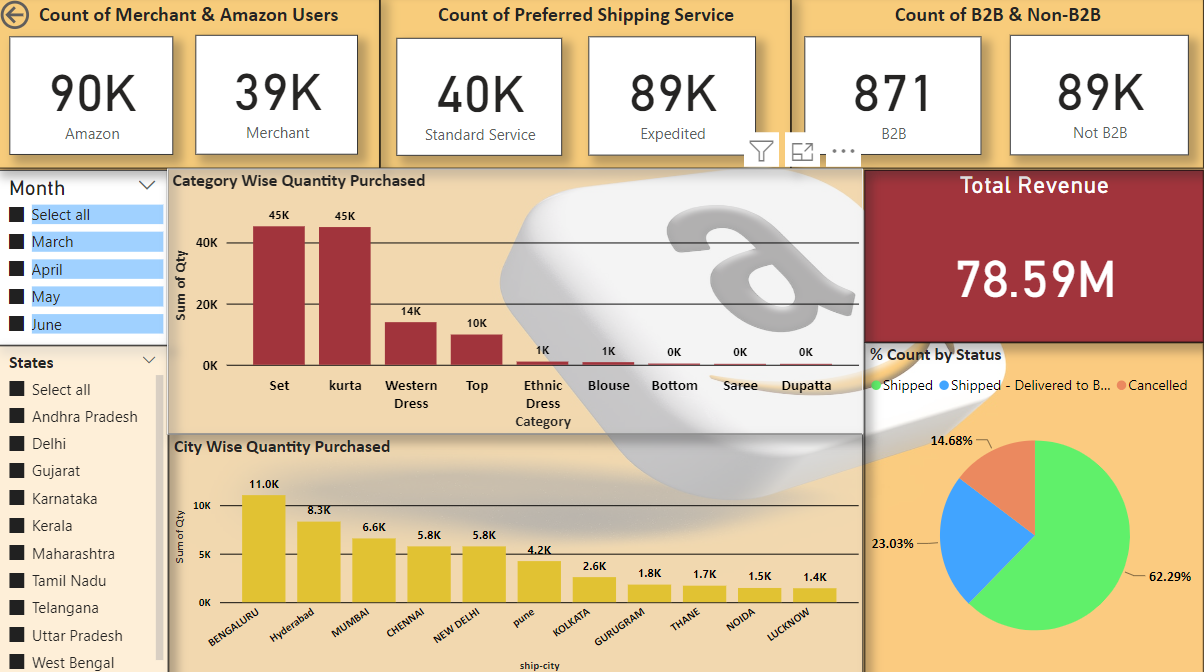

This screenshot's page, from the dashboard's own definition file:
{"tool":"powerbi","page":{"name":"Page 1","canvas":[1280,720],"ordinal":0},"visuals":[{"type":"textbox","box":[0,0,406.9,182.8],"z":0,"group":"g1"},{"type":"textbox","box":[406.9,0,435.5,182.8],"z":0,"group":"g2"},{"type":"textbox","box":[842.4,0,437.1,182.8],"z":0,"group":"g3"},{"type":"slicer","fields":{"Values":["Amazon.Month"]},"box":[0,184.4,182.8,186],"z":0},{"type":"card","title":"Total Revenue","fields":{"Values":["Sum(Amazon.Amount)"]},"box":[920.3,184.4,359.2,182.8],"z":1000},{"type":"clusteredColumnChart","title":"City Wise Quantity Purchased","fields":{"Y":["Sum(Amazon.Qty)"],"Category":["Amazon.ship-city"]},"box":[182.8,464.1,735.9,255.9],"z":2000},{"type":"pieChart","title":"% Count by Status","fields":{"Category":["Amazon.Status"],"Y":["CountNonNull(Amazon.Status)"]},"box":[920.3,367.2,359.2,352.8],"z":3000},{"type":"slicer","fields":{"Values":["Amazon.ship-state"]},"box":[0,370.3,182.8,349.7],"z":4000},{"type":"group","id":"g1","title":"Group 1","box":[0,0,406.9,182.8],"z":5000},{"type":"group","id":"g2","title":"Group 2","box":[406.9,0,435.5,182.8],"z":6000},{"type":"card","fields":{"Values":["Amazon.Round"]},"box":[13.7,42.7,173.6,125.1],"z":6000,"group":"g1"},{"type":"card","fields":{"Values":["Amazon.Round_B2B_T"]},"box":[857.4,42.9,187.6,125.6],"z":6000,"group":"g3"},{"type":"card","fields":{"Values":["Amazon.Round_standard"]},"box":[424.7,44.5,175.6,124.5],"z":6000,"group":"g2"},{"type":"group","id":"g3","title":"Group 2","box":[842.4,0,437.1,182.8],"z":7000},{"type":"card","fields":{"Values":["Amazon.Round_Merchant"]},"box":[210.6,41.2,172.3,126.6],"z":7000,"group":"g1"},{"type":"card","fields":{"Values":["Amazon.Round_expedited"]},"box":[1075,41.3,189.5,127.2],"z":7000,"group":"g3"},{"type":"card","fields":{"Values":["Amazon.Round_expedited"]},"box":[628.4,42.9,177.3,126.1],"z":7000,"group":"g2"},{"type":"actionButton","box":[0,0,100,40],"z":8000},{"type":"clusteredColumnChart","title":"Category Wise Quantity Purchased","fields":{"Category":["Amazon.Category"],"Y":["Sum(Amazon.Qty)"]},"box":[181.2,182.8,737.5,281.3],"z":9000}]}

Visuals, with their boxes in screenshot pixels (x1, y1, x2, y2):
textbox: {"left": 0, "top": 0, "right": 372, "bottom": 165}
textbox: {"left": 372, "top": 0, "right": 787, "bottom": 165}
textbox: {"left": 787, "top": 0, "right": 1203, "bottom": 165}
slicer - Amazon.Month: {"left": 0, "top": 166, "right": 158, "bottom": 344}
"Total Revenue" card: {"left": 861, "top": 166, "right": 1203, "bottom": 340}
"City Wise Quantity Purchased" clusteredColumnChart: {"left": 158, "top": 433, "right": 860, "bottom": 671}
"% Count by Status" pieChart: {"left": 861, "top": 340, "right": 1203, "bottom": 671}
slicer - Amazon.ship-state: {"left": 0, "top": 343, "right": 158, "bottom": 671}
"Group 1" group: {"left": 0, "top": 0, "right": 372, "bottom": 165}
"Group 2" group: {"left": 372, "top": 0, "right": 787, "bottom": 165}
card - Amazon.Round: {"left": 0, "top": 31, "right": 163, "bottom": 150}
card - Amazon.Round_B2B_T: {"left": 801, "top": 31, "right": 980, "bottom": 151}
card - Amazon.Round_standard: {"left": 389, "top": 33, "right": 556, "bottom": 152}
"Group 2" group: {"left": 787, "top": 0, "right": 1203, "bottom": 165}
card - Amazon.Round_Merchant: {"left": 185, "top": 30, "right": 349, "bottom": 150}
card - Amazon.Round_expedited: {"left": 1009, "top": 30, "right": 1189, "bottom": 151}
card - Amazon.Round_expedited: {"left": 583, "top": 31, "right": 752, "bottom": 152}
actionButton: {"left": 0, "top": 0, "right": 80, "bottom": 29}
"Category Wise Quantity Purchased" clusteredColumnChart: {"left": 157, "top": 165, "right": 860, "bottom": 433}
